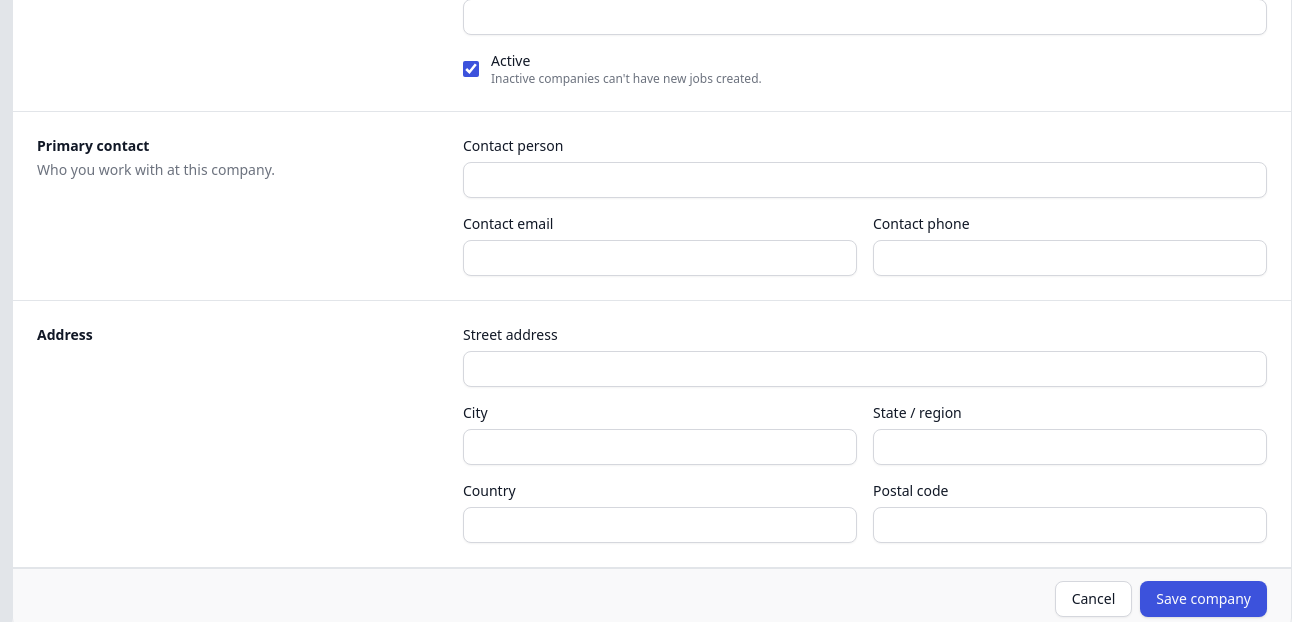
CompanyFormPage › requires a company name before submitting
(page scrolled)
Click the button "Save company" at (1204, 599), box [1140,581,1267,617]
(page scrolled)
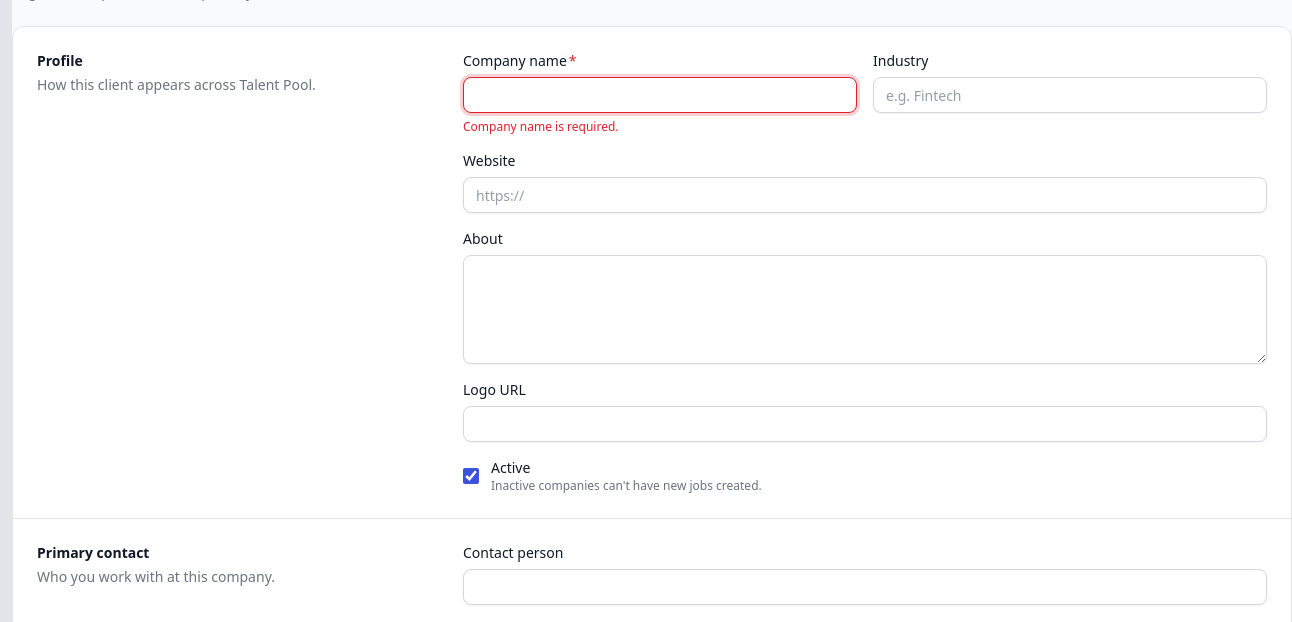
Check: the text "Company name is required." is shown, box [463,118,618,135]
